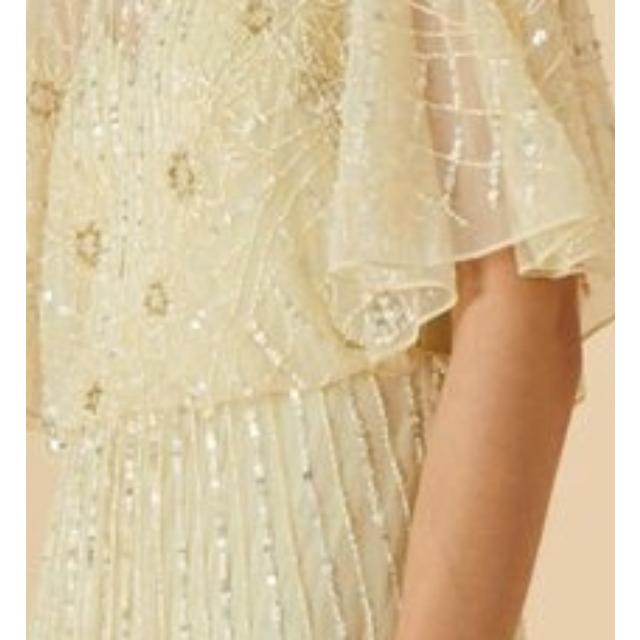polyester: (26, 0, 420, 640)
